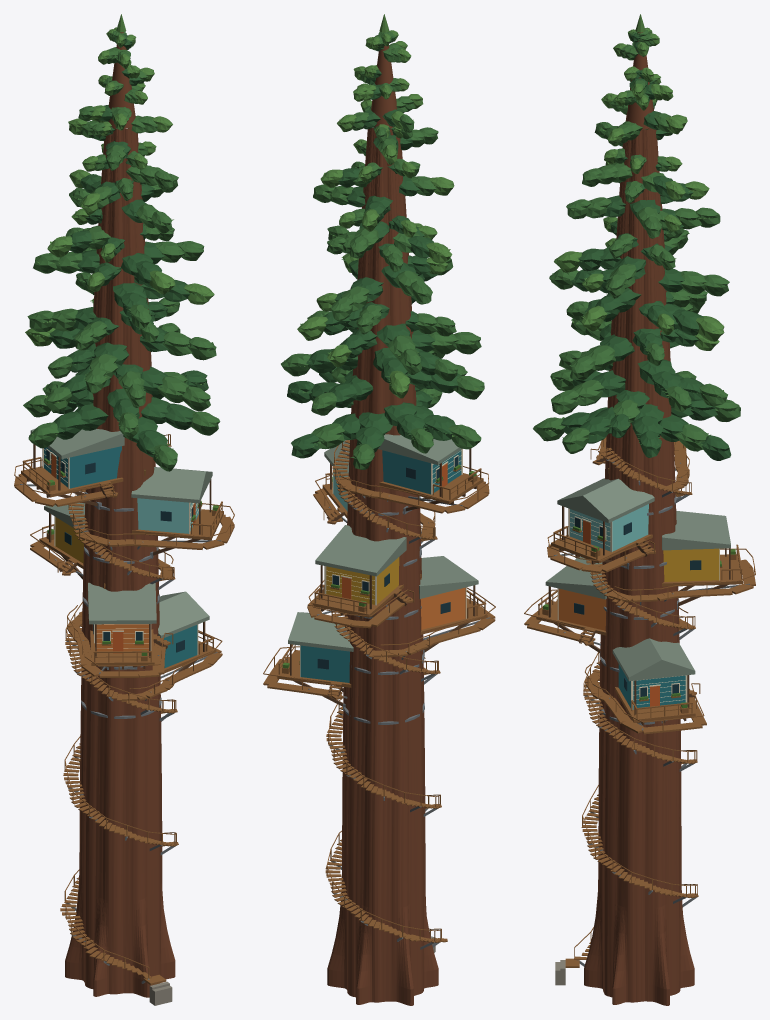
Rendered from village_tree_high.glb.
3 renders of one model, left to right at view 1: azimuth 30°, elevation 25°; view 2: azimuth 150°, elevation 25°; view 3: azimuth 270°, elevation 25°, orthographic.
Visible parts, largest first — view 1: village_tree_high; view 2: village_tree_high; view 3: village_tree_high.
Part boxes in pixels (<box>): village_tree_high: <box>14,14,234,1005</box>; village_tree_high: <box>263,14,495,1005</box>; village_tree_high: <box>524,14,755,1005</box>.
Bounding box in the file's own units: 20.3 × 94.2 × 20.4.
